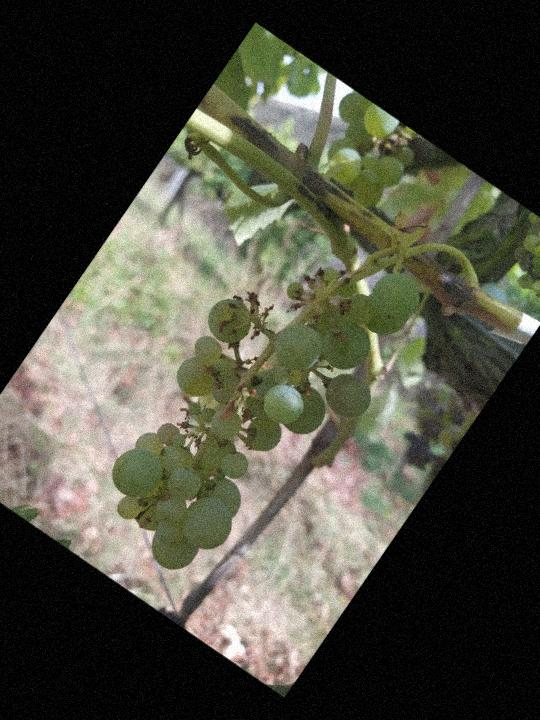grape: (71, 190, 447, 616)
